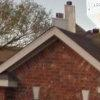Chimney: (55, 1, 82, 32)
